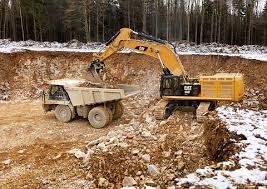excavator: (85, 28, 248, 126)
truck: (41, 81, 145, 127)
